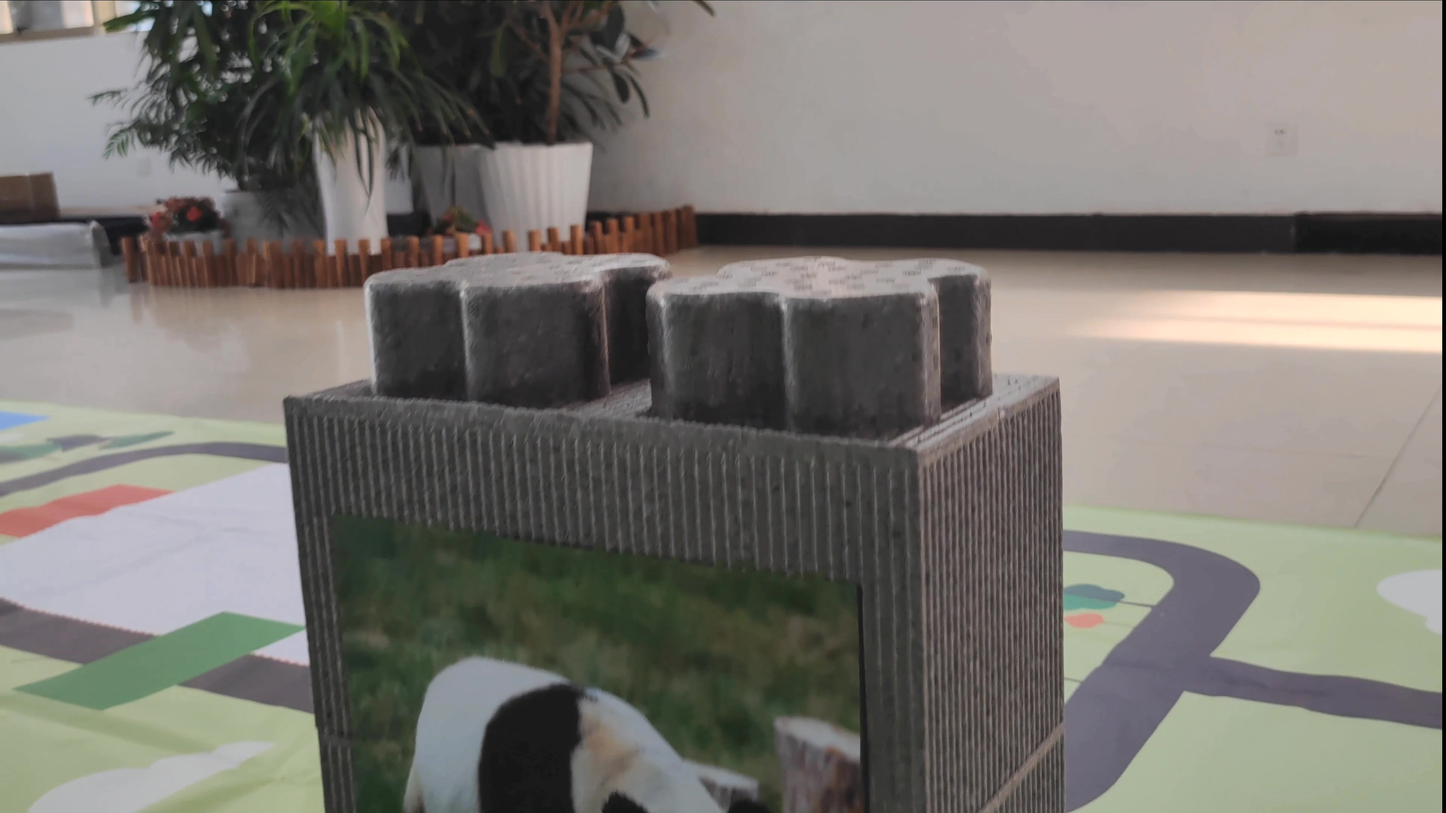panda: (351, 536, 756, 813)
